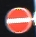No entry: (5, 5, 31, 32)
